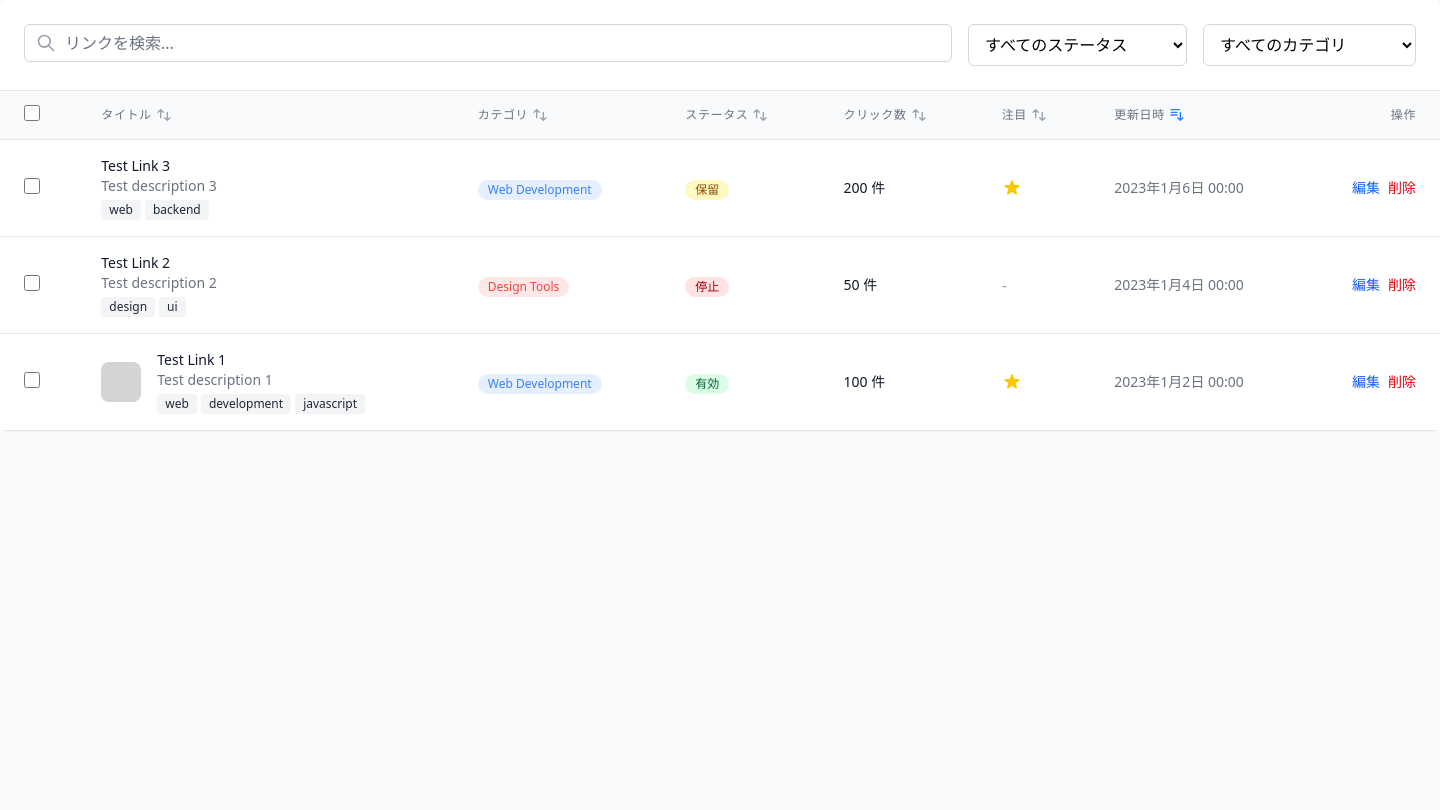
it: LinkManagementTable › shows delete confirmation modal
Click the button "削除" in the row of "Test description 3".
click(1402, 188)  # box [1388, 178, 1416, 198]
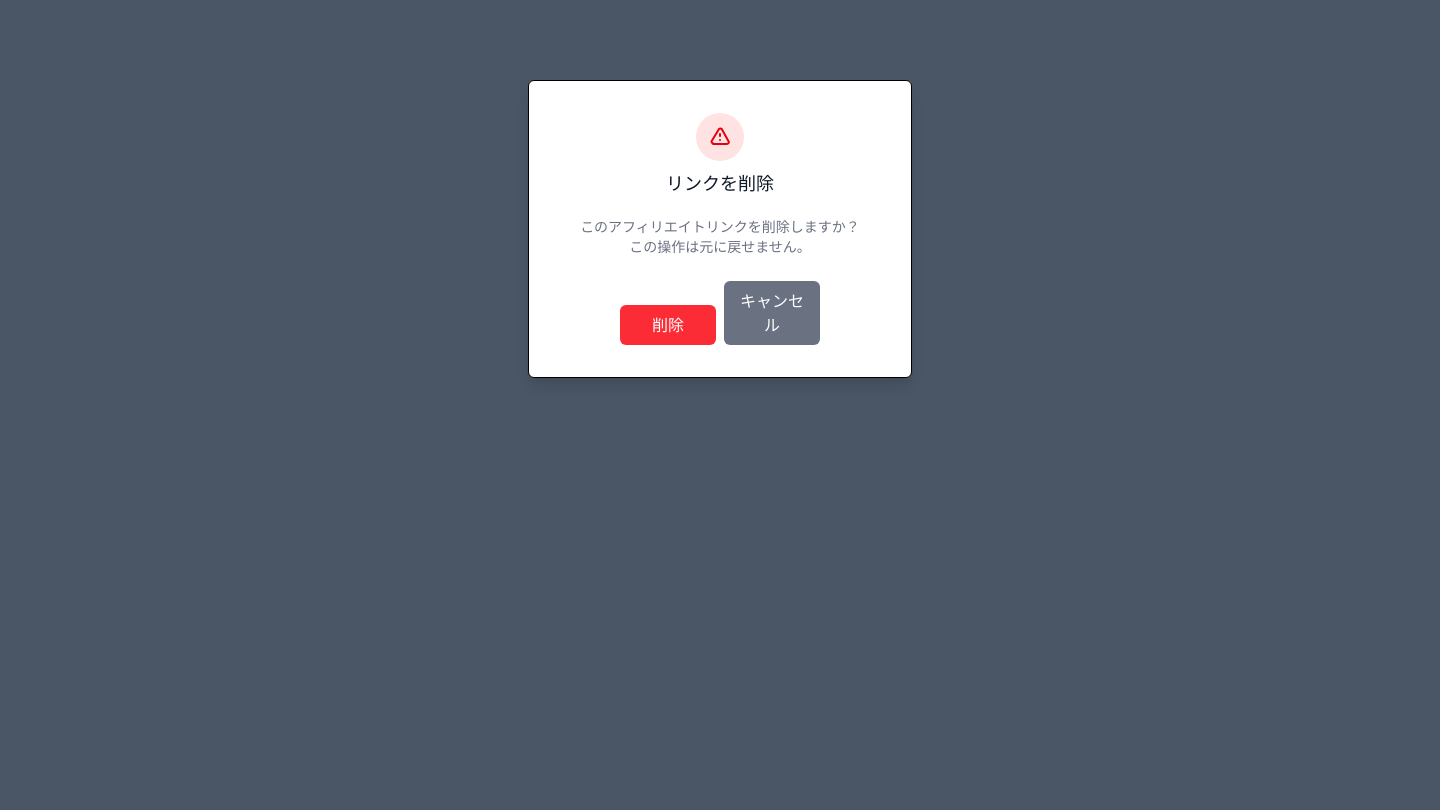
expect the heading "リンクを削除" is shown: met, box [666, 171, 774, 195]
expect the text "このアフィリエイトリンクを削除しますか？この操作は元に戻せません。" is shown: met, box [577, 217, 863, 257]
